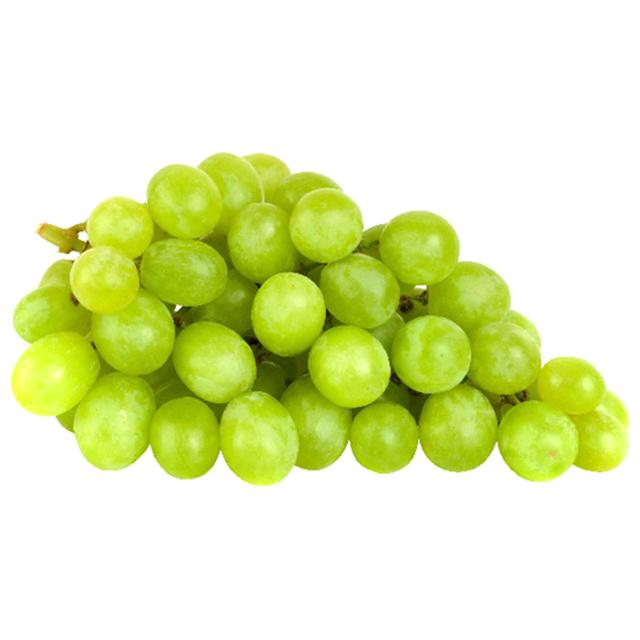Grapes: (17, 150, 627, 482), (218, 394, 300, 488), (12, 334, 102, 418), (310, 327, 392, 411), (78, 376, 152, 466), (172, 323, 255, 403), (497, 399, 577, 481), (143, 238, 230, 310), (290, 188, 368, 264), (422, 388, 494, 470), (252, 273, 322, 357), (392, 318, 472, 390), (149, 162, 223, 238), (465, 318, 539, 394), (318, 255, 398, 325), (384, 210, 461, 282), (230, 202, 298, 280), (434, 262, 511, 328), (154, 398, 218, 476), (66, 246, 140, 312), (348, 406, 418, 474), (540, 357, 606, 415)
